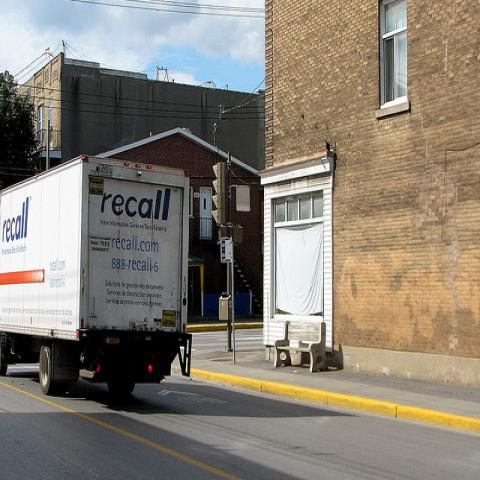truck: (0, 159, 190, 398)
